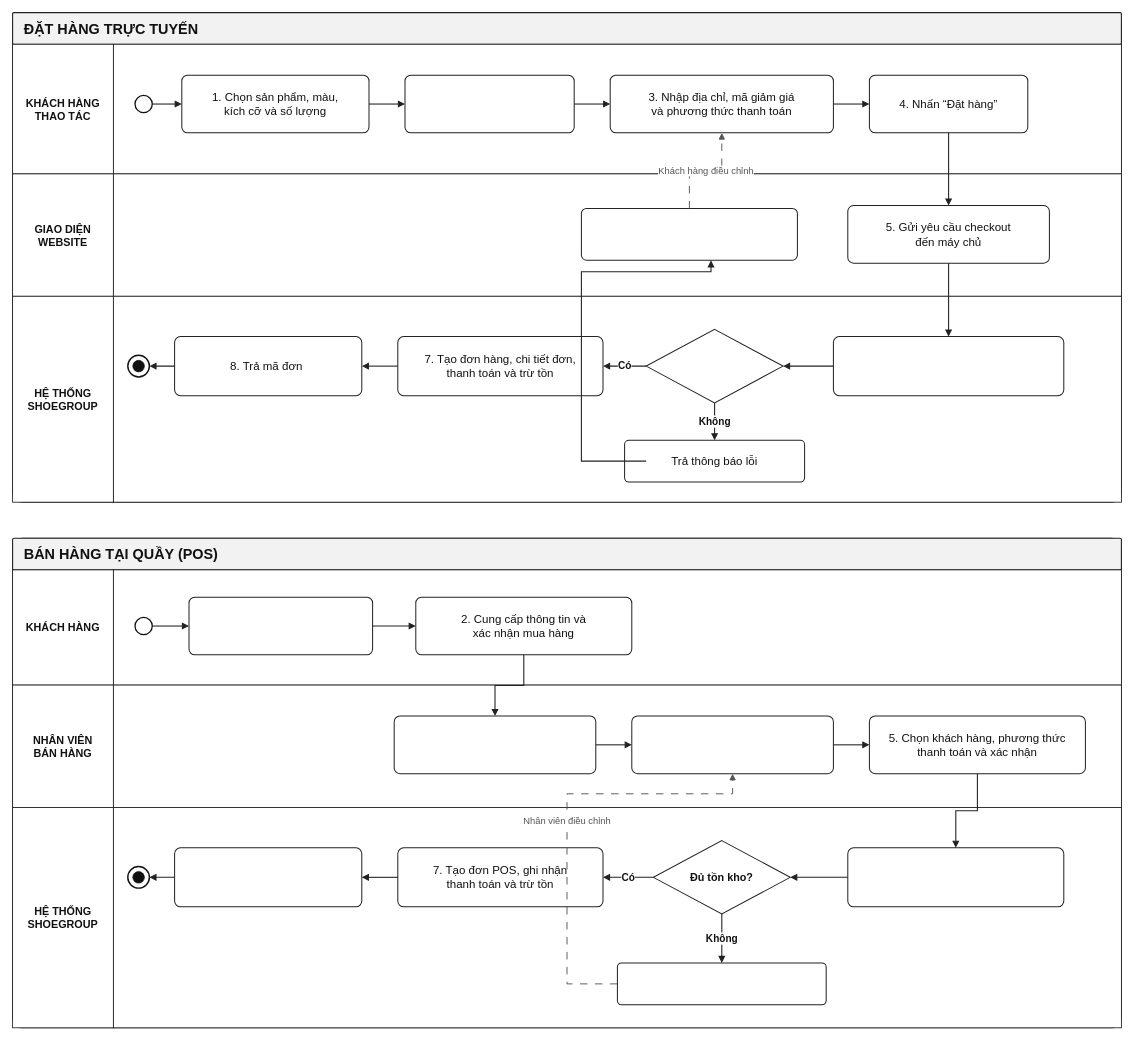
The diagram is 1135 pixels wide and 1041 high, and some of its shapes have lost their labels. Each missing label, with the centre of its shape:
"1. Chọn sản phẩm cần mua" goes at [280,625].
"2. Thêm sản phẩm vào giỏ hàng" goes at [489,103].
"3. Tìm sản phẩm trên màn hình POS" goes at [494,744].
"4. Chọn màu, kích cỡ và số lượng" goes at [732,744].
"6. Kiểm tra tồn kho và tính tổng tiền" goes at [955,877].
"6. Kiểm tra đăng nhập, dữ liệu, giá bán và tồn kho" goes at [948,366].
"8. Hiển thị thành công và in hóa đơn" goes at [268,877].
"Hiển thị lỗi và giữ nguyên giỏ hàng" goes at [689,234].
"Hợp lệ và đủ tồn kho?" goes at [714,366].
"Thông báo hết tồn hoặc sai số lượng" goes at [721,983].
